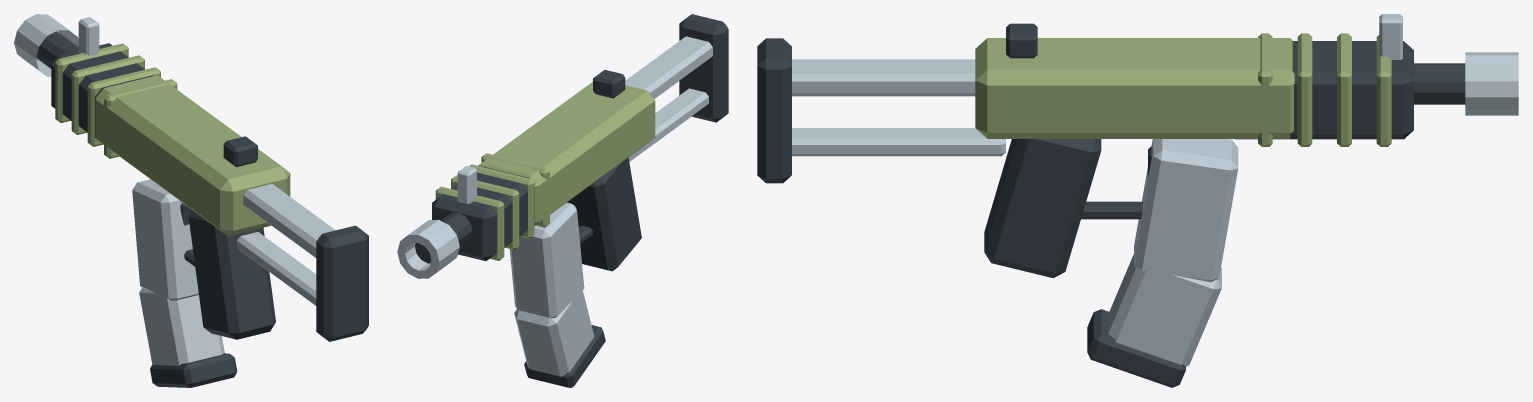
Rendered from MachineGun.fbx.
3 views of the same model, side by side, from view 1: azimuth 30°, elevation 25°; view 2: azimuth 150°, elevation 25°; view 3: azimuth 270°, elevation 25° (orthographic). The views are drawn at different scales.
Parts seen in each view (by area): view 1: MachineGunMesh; view 2: MachineGunMesh; view 3: MachineGunMesh.
Boxes of the visible parts, box(x1,y1,x2,y2) form: MachineGunMesh: box(14, 14, 368, 387); MachineGunMesh: box(397, 14, 728, 387); MachineGunMesh: box(757, 14, 1518, 387).
Bounding box in the file's own units: 10 × 39.98 × 76.95.
